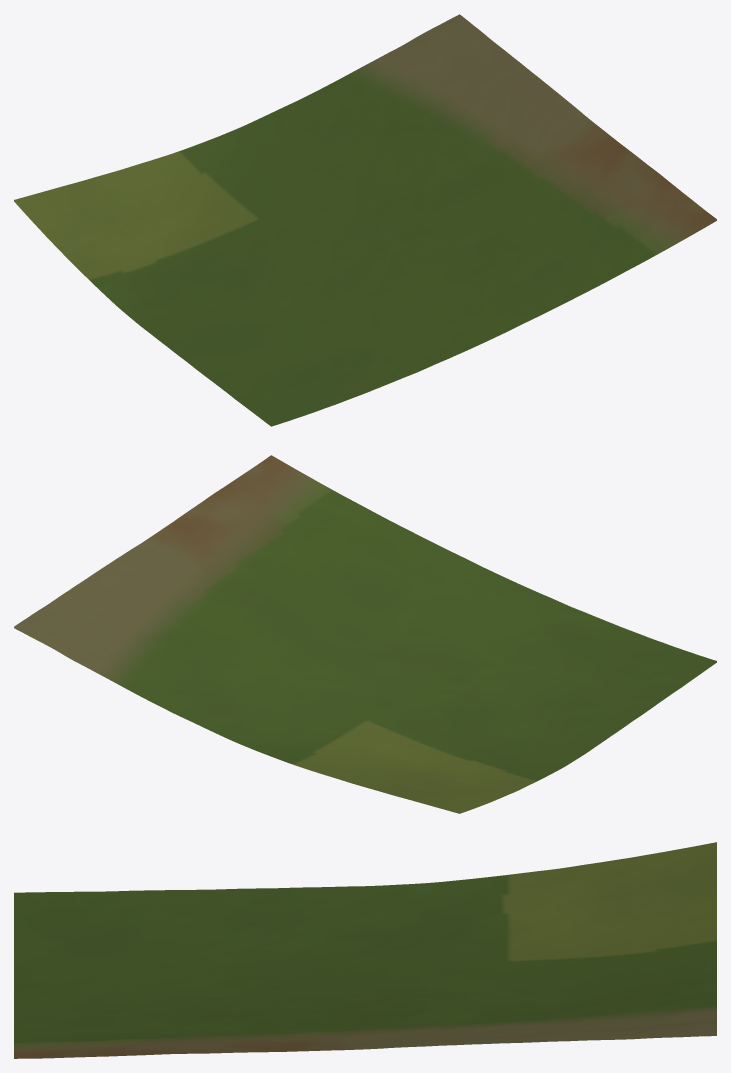
The model's file is land_n_03_01.glb.
3 views of the same model, one above another, from view 1: azimuth 30°, elevation 25°; view 2: azimuth 150°, elevation 25°; view 3: azimuth 270°, elevation 25° (orthographic). The views are drawn at different scales.
Parts seen in each view (by area): view 1: land_n_03_01; view 2: land_n_03_01; view 3: land_n_03_01.
Part boxes in pixels (x1,y1,x2,y2): land_n_03_01: [14, 14, 716, 426]; land_n_03_01: [14, 455, 716, 813]; land_n_03_01: [14, 842, 716, 1058].
Size of the model in its own units: 480 by 119 by 480.
